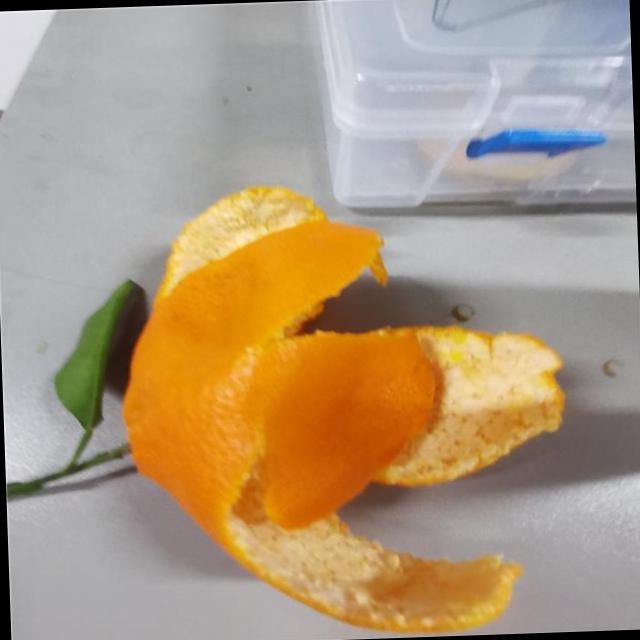orange-peel: (112, 174, 570, 640)
